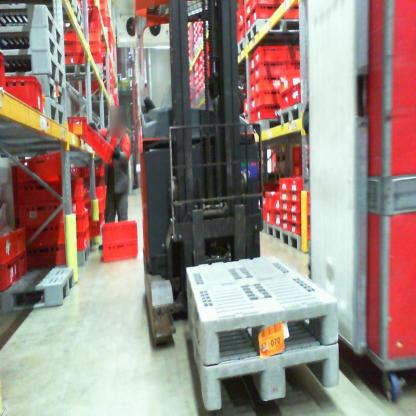pallet: (185, 245, 339, 383), (184, 311, 345, 410), (0, 265, 77, 319), (0, 4, 62, 46), (2, 48, 68, 87), (0, 100, 69, 137), (242, 19, 306, 52), (4, 30, 62, 66), (28, 241, 91, 271), (34, 76, 68, 108), (276, 102, 304, 130), (244, 118, 275, 136), (282, 231, 305, 249), (265, 219, 282, 243), (228, 38, 248, 58)
pallet_truck: (127, 1, 349, 400)
small_load_carrier: (10, 147, 75, 190), (17, 197, 88, 230), (19, 177, 87, 204), (23, 224, 89, 248), (84, 123, 118, 168), (96, 236, 142, 269), (103, 219, 140, 244), (0, 256, 20, 297), (249, 5, 280, 31), (255, 46, 288, 69), (251, 61, 284, 84), (62, 110, 90, 135), (10, 226, 33, 253), (252, 92, 283, 110), (13, 248, 33, 275), (254, 77, 284, 94), (277, 60, 302, 79), (255, 106, 281, 124), (0, 234, 14, 265), (75, 41, 108, 54), (252, 2, 283, 15), (287, 81, 302, 107), (281, 6, 305, 21), (83, 5, 104, 22), (74, 30, 106, 41), (233, 24, 246, 49), (289, 173, 306, 192), (287, 189, 309, 203), (290, 223, 309, 239), (75, 54, 105, 64), (277, 86, 289, 110), (291, 199, 309, 215), (263, 189, 277, 209), (242, 11, 253, 35), (236, 6, 246, 32), (272, 209, 284, 230), (262, 205, 274, 226), (74, 22, 103, 30), (288, 212, 309, 223), (272, 192, 282, 213), (279, 199, 292, 215), (246, 53, 256, 73), (278, 175, 292, 189), (244, 1, 253, 22), (278, 189, 290, 202), (279, 206, 287, 220), (283, 219, 290, 233)
